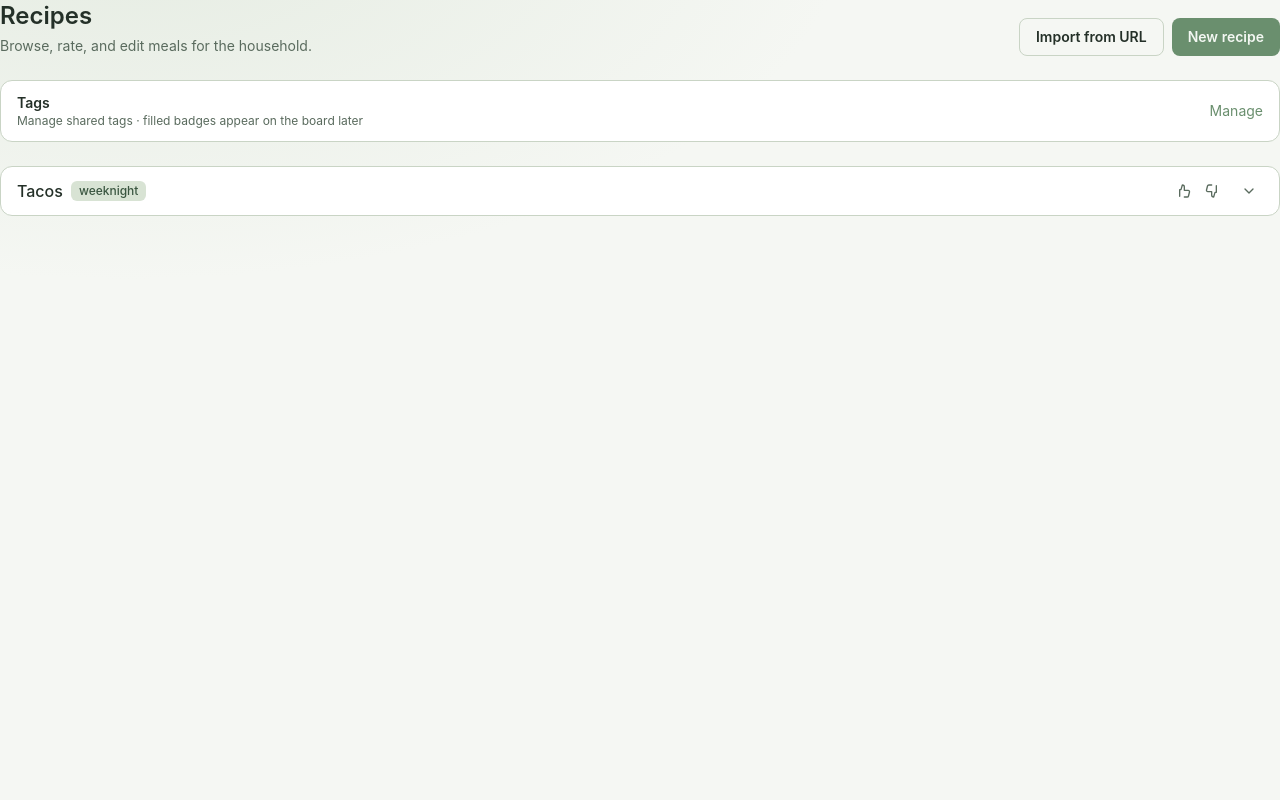
RecipesPage › imports a recipe from a URL
expect the text "Tacos" is shown: met, box [17,179,63,203]
Click the button "Import from URL" at (1091, 37), box [1019,18,1164,56]
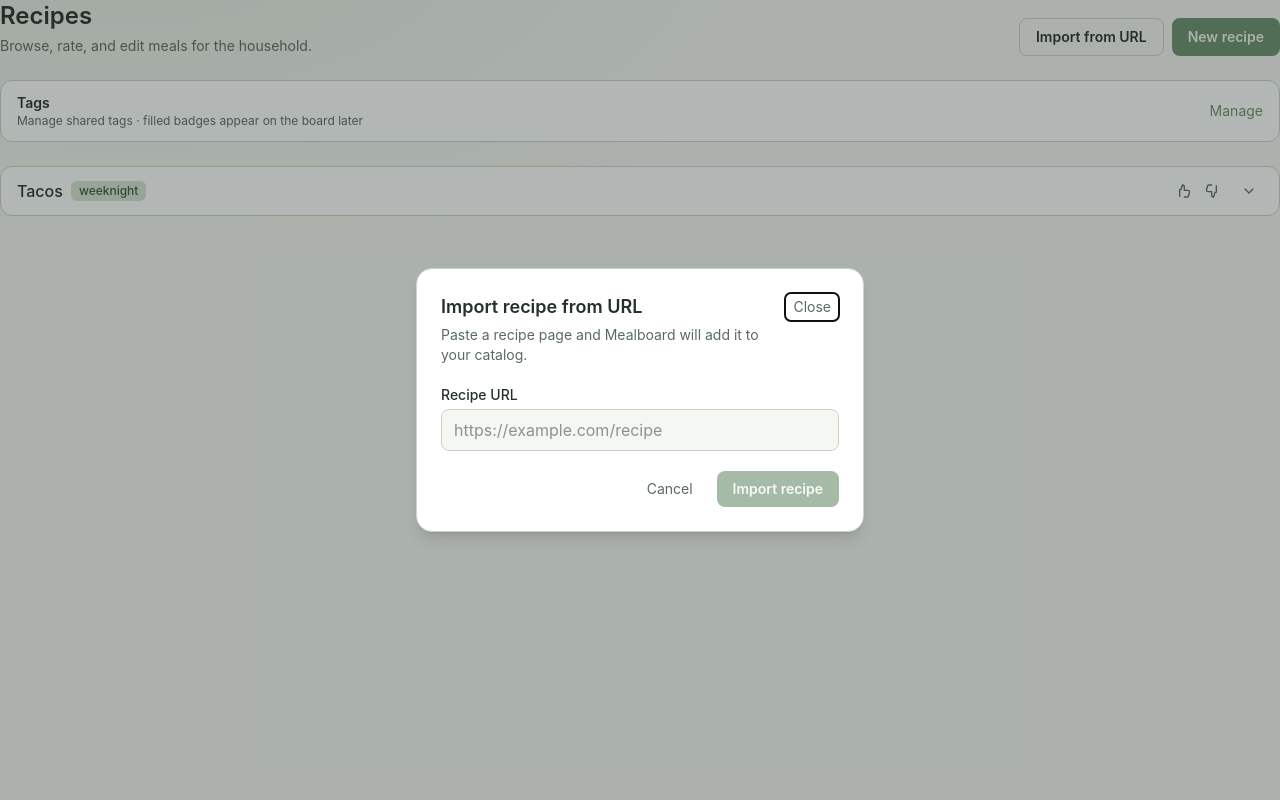
Type "https://example.com/pasta" into the field labelled "Recipe URL" at (640, 430), box [441,409,839,451]
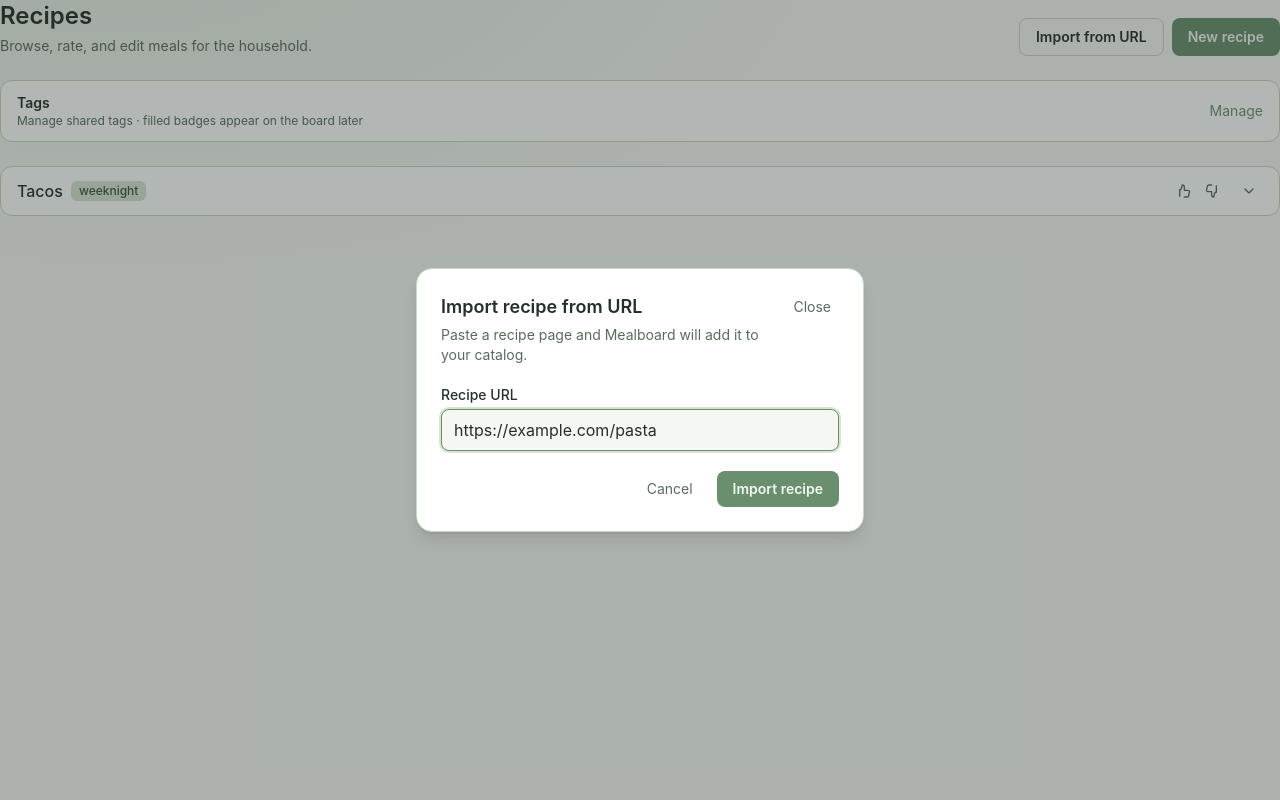
Click the button "Import recipe" at (778, 489), box [717,471,839,507]
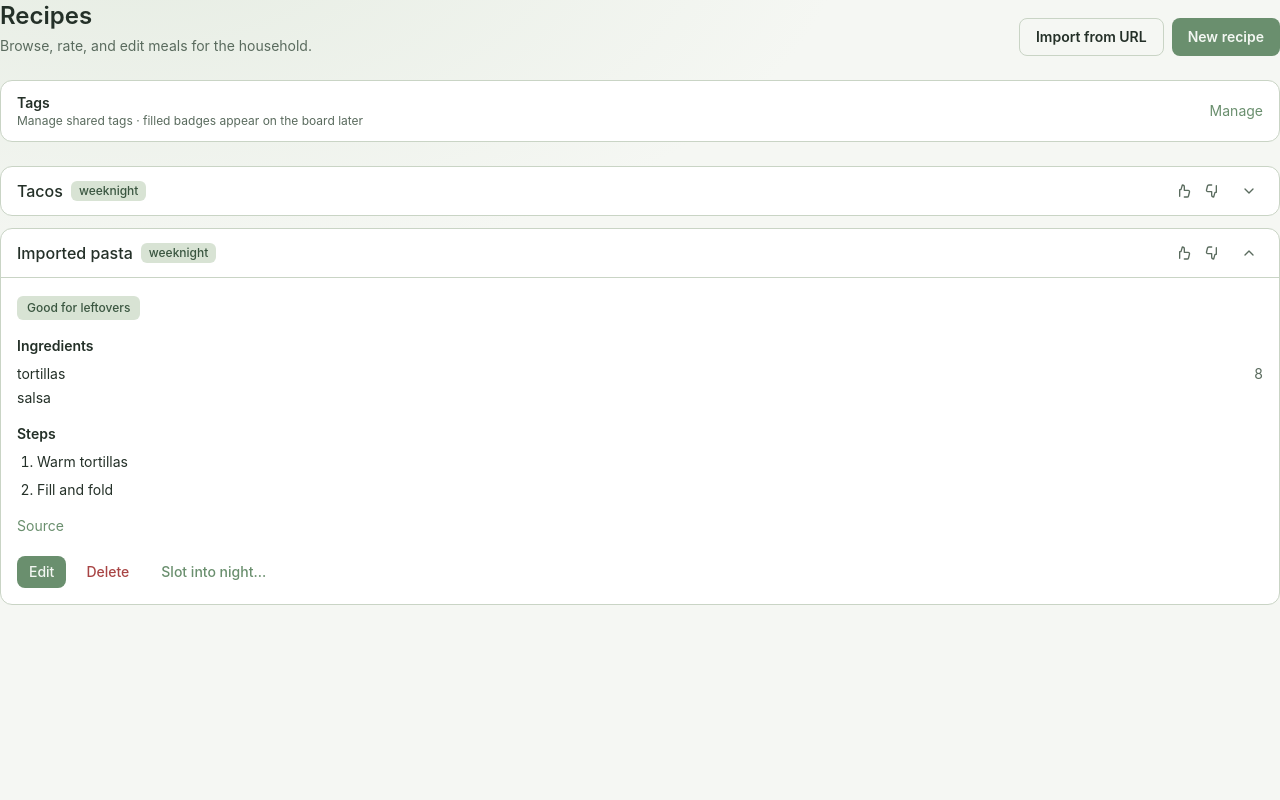
expect the dialog is gone: met
expect the text "Imported pasta" is shown: met, box [17,241,133,265]
